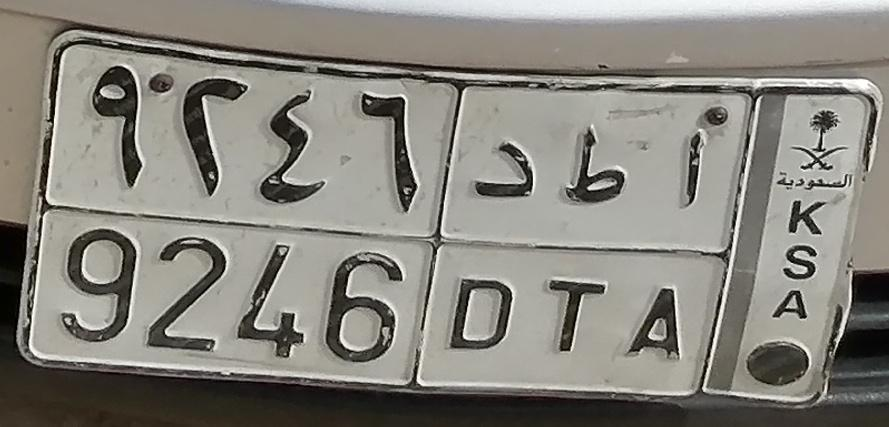2: (146, 76, 249, 356)
4: (237, 83, 326, 358)
6: (325, 84, 421, 364)
9: (60, 62, 144, 341)
A: (625, 125, 720, 366)
D: (445, 139, 542, 361)
T: (547, 120, 629, 362)
